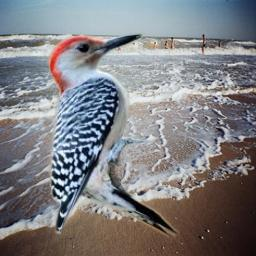Woodpecker: (36, 24, 188, 252)
